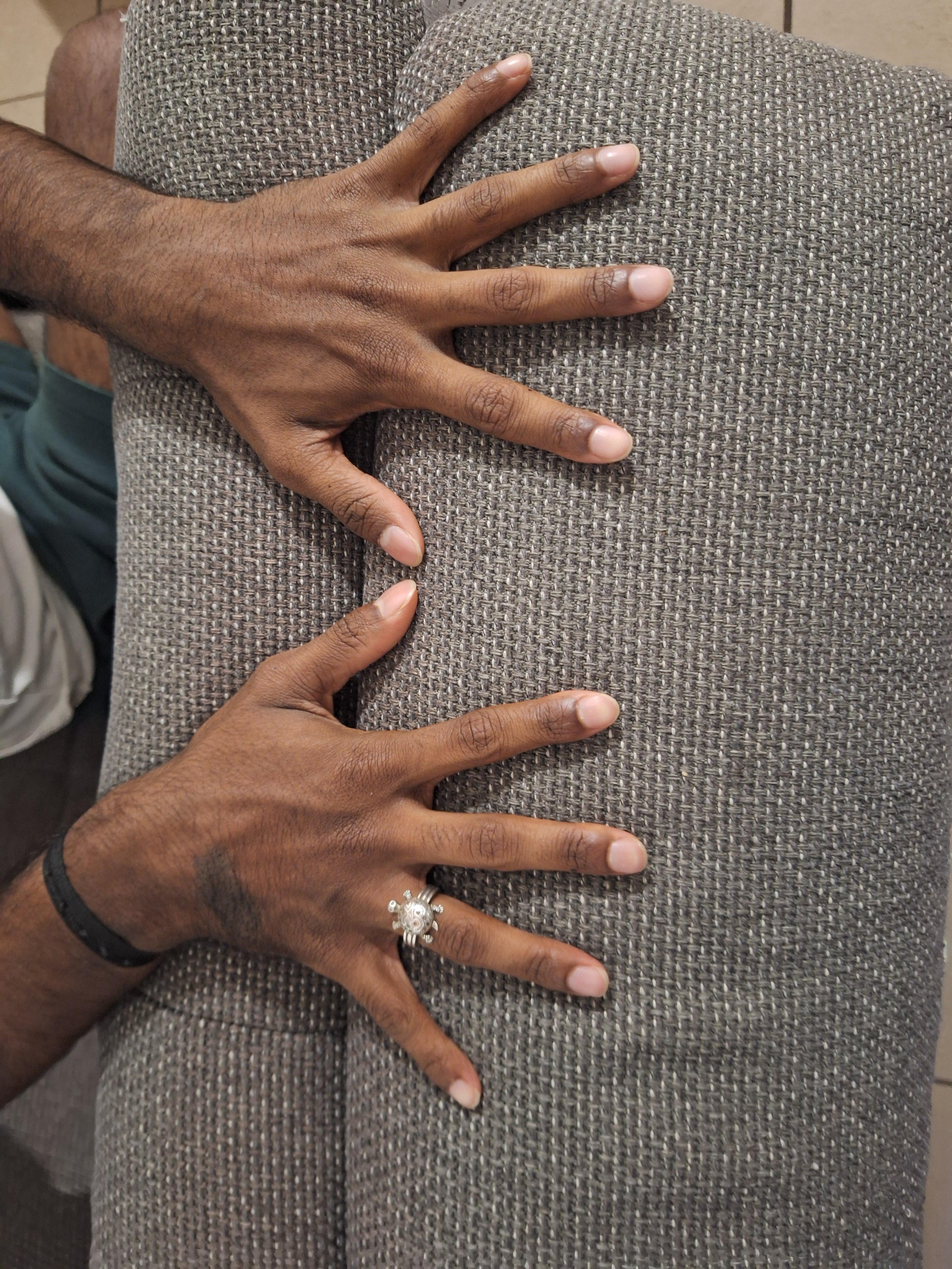Fingernail: (379, 526, 423, 567), (374, 579, 416, 618), (589, 425, 633, 462), (629, 267, 674, 301), (577, 693, 620, 728), (608, 837, 648, 874), (598, 143, 640, 176), (568, 966, 608, 997), (450, 1079, 480, 1110), (496, 53, 532, 78)
